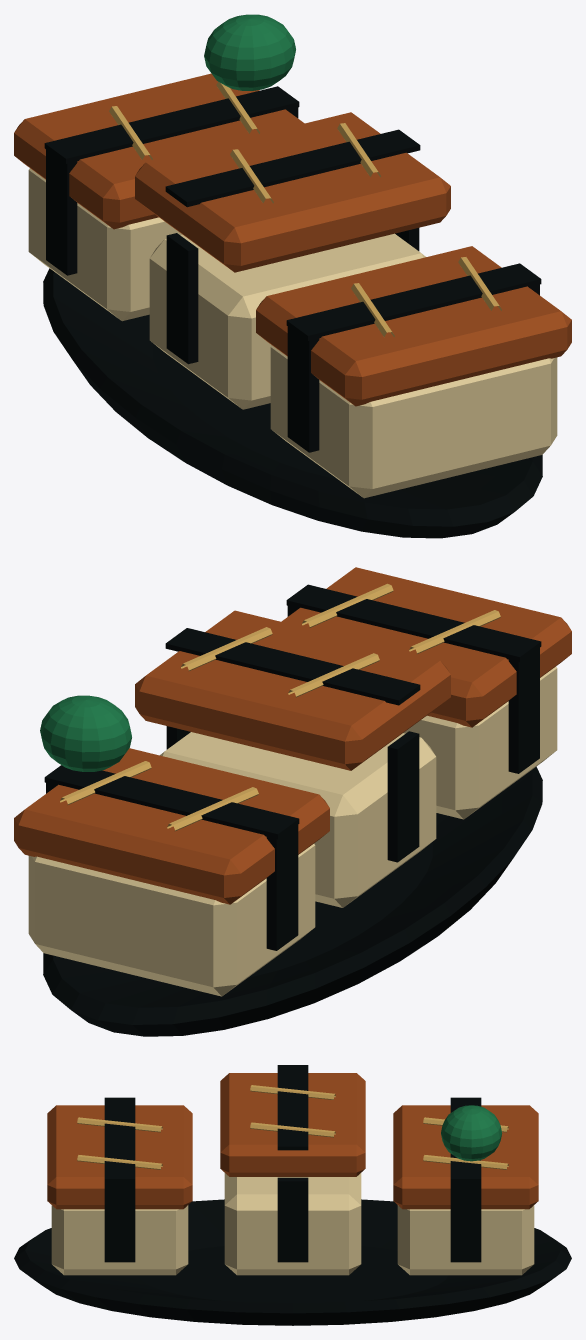
The model's file is panel_food_tray.fbx.
The picture shows the model from 3 angles, top to bottom: view 1: azimuth 30°, elevation 25°; view 2: azimuth 150°, elevation 25°; view 3: azimuth 270°, elevation 25°; orthographic projection. The views are drawn at different scales.
Visible parts, largest first — view 1: Part_0; view 2: Part_0; view 3: Part_0.
Part boxes in pixels (x1=…): Part_0: x1=14, y1=14, x2=571, y2=538; Part_0: x1=14, y1=567, x2=571, y2=1036; Part_0: x1=14, y1=1065, x2=571, y2=1325.
Size of the model in its own units: 1.4 by 1.2 by 3.
